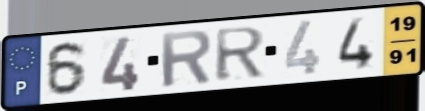4: (98, 33, 143, 93), (283, 18, 323, 78), (336, 16, 377, 70)
6: (45, 39, 89, 96)
R: (158, 28, 214, 89), (212, 25, 268, 84)
